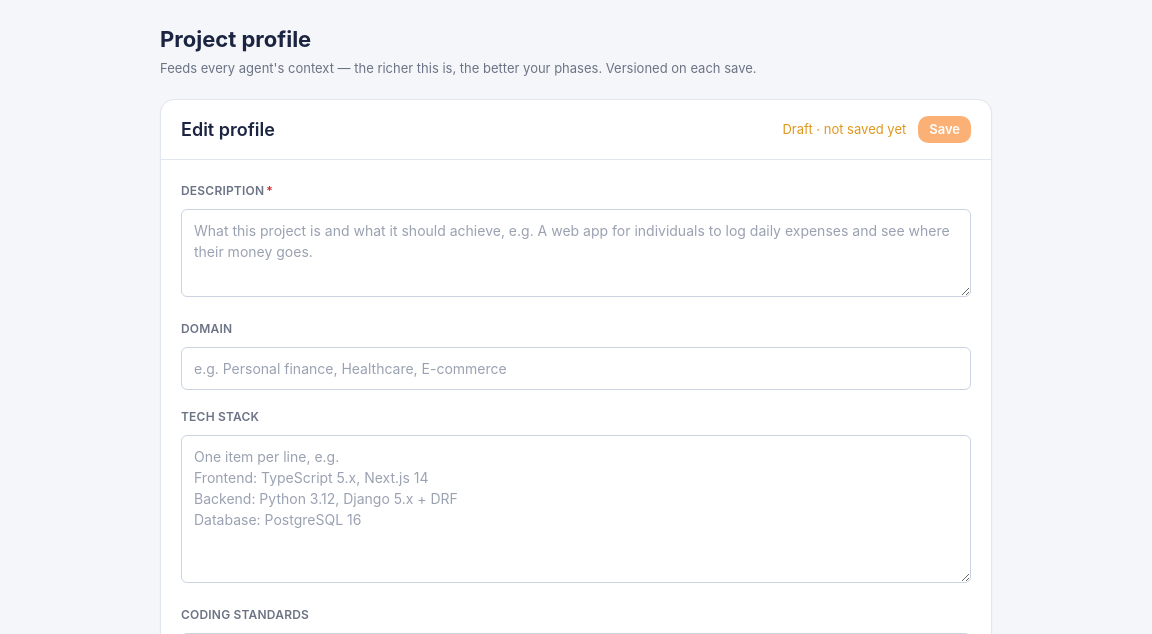
it: once a description is there › clears the refusal as soon as the field is typed into
Step 1. Type "Personal finance" into the field with placeholder "e.g. Personal finance, Healthcare, E-commerce" → (576, 368), box [181,347,971,390]
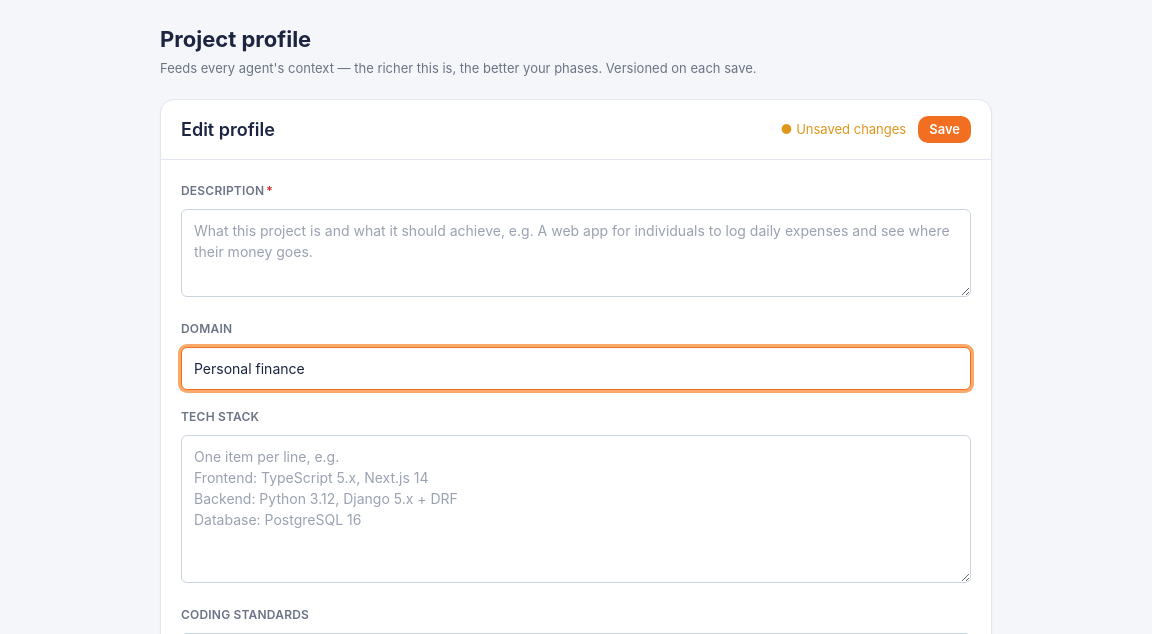
Step 2. Click the button "Save" → (945, 130), box [918,116,971,143]
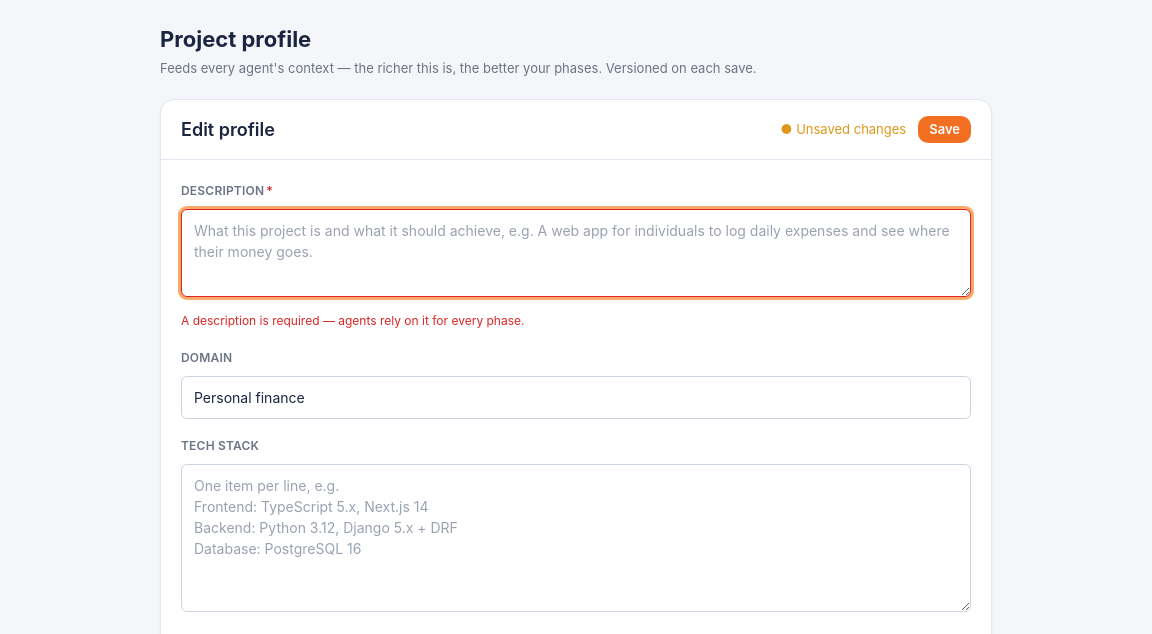
expect the text "A description is required — agents rely on it for every phase" is shown: met, box [181,313,524,328]
Step 3. Type "Expense tracking." into the 1st text box → (576, 253), box [181,209,971,297]
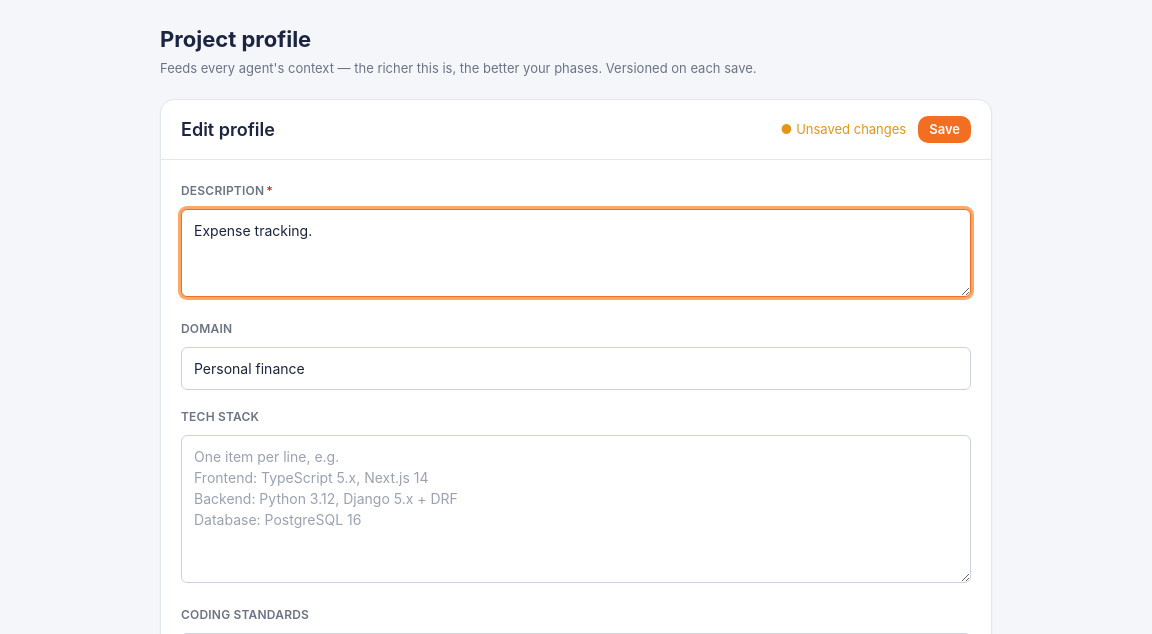
expect the text "A description is required — agents rely on it for every phase" is gone: met
